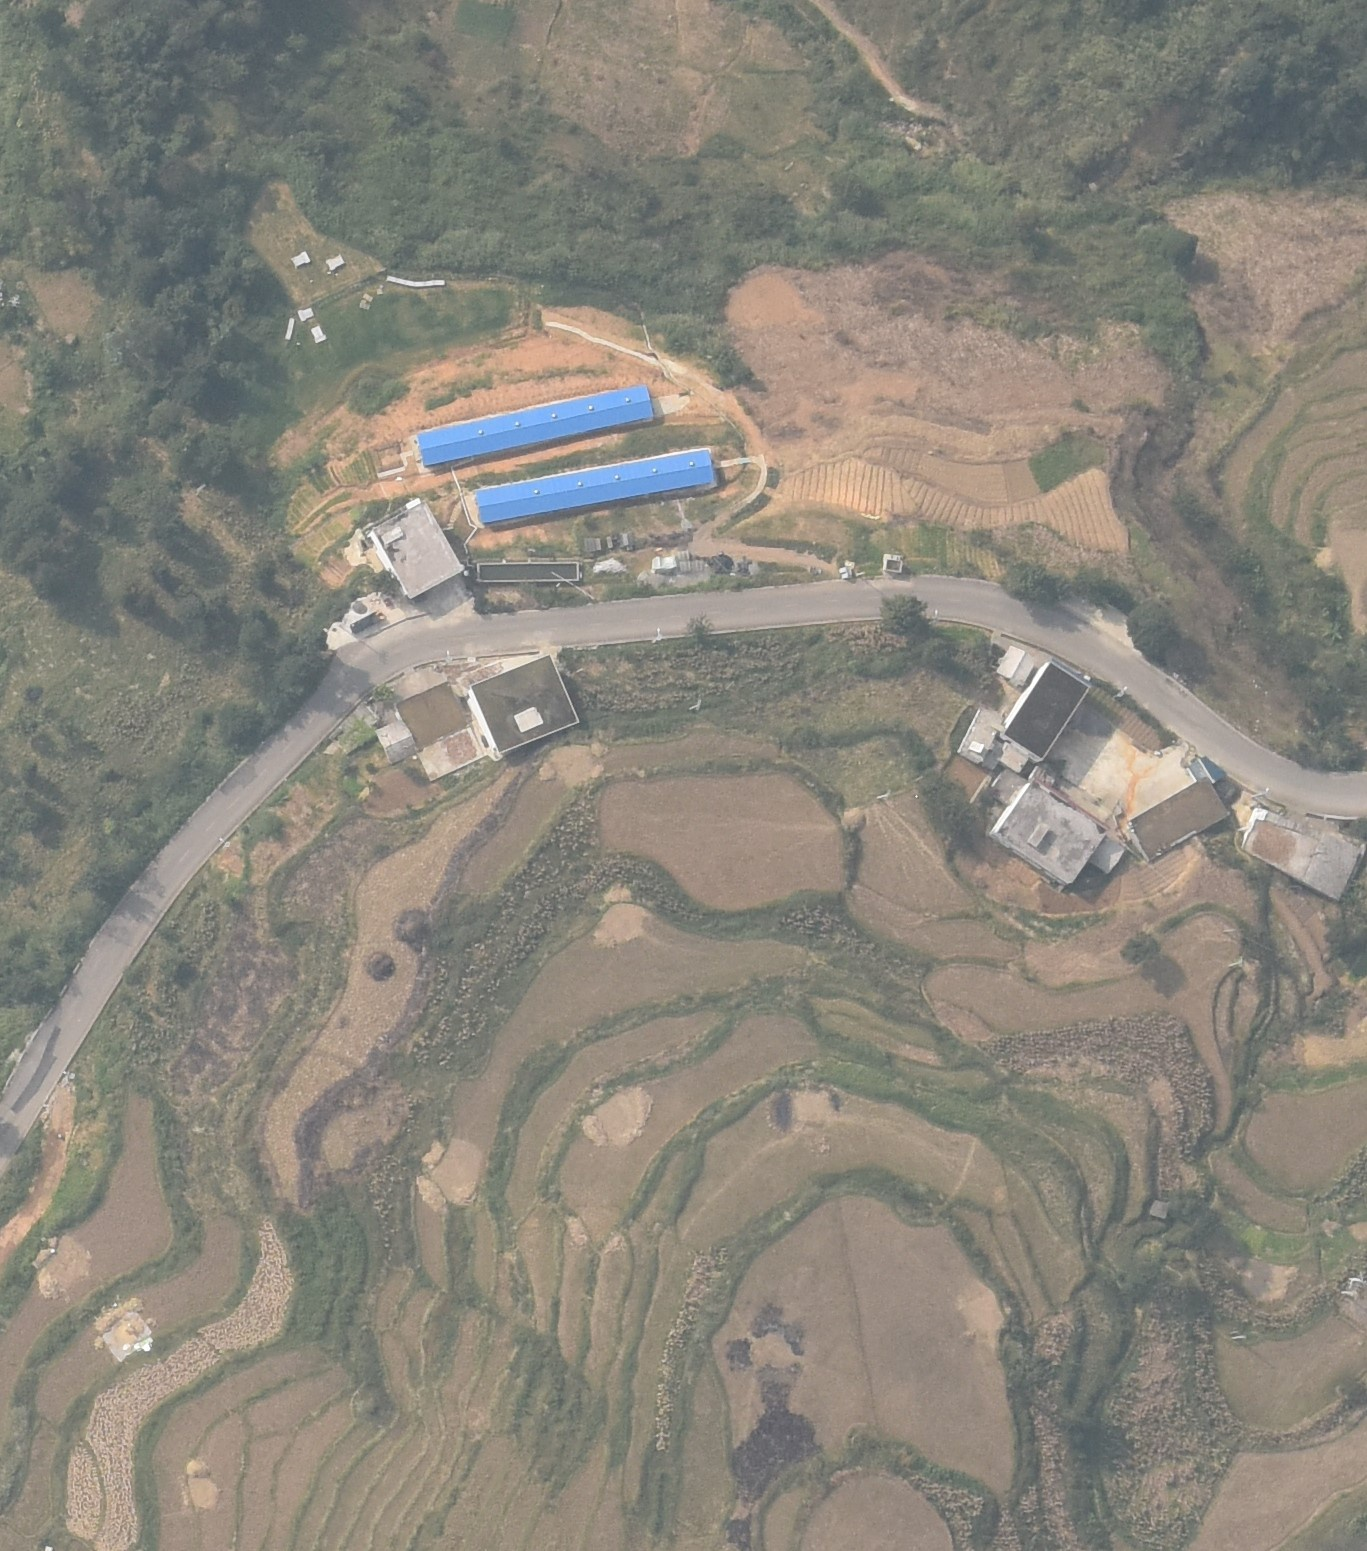building: (990, 781, 1104, 884), (470, 654, 581, 754), (1242, 808, 1359, 902), (1129, 776, 1231, 864), (1001, 659, 1089, 761), (373, 502, 464, 599), (475, 562, 581, 582), (376, 719, 414, 765), (1185, 754, 1224, 785)
prefabricated-house: (416, 382, 653, 467), (472, 451, 714, 522), (995, 645, 1033, 684), (387, 276, 443, 288), (292, 251, 311, 268), (326, 255, 346, 272), (310, 326, 326, 343), (296, 309, 314, 320), (285, 318, 294, 339)
